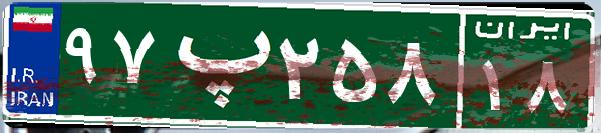1: (475, 38, 525, 113)
2: (273, 28, 330, 110)
5: (330, 28, 385, 110)
7: (110, 28, 158, 105)
8: (385, 28, 445, 110), (525, 38, 570, 115)
9: (57, 26, 110, 107)
پ: (158, 15, 273, 115)
